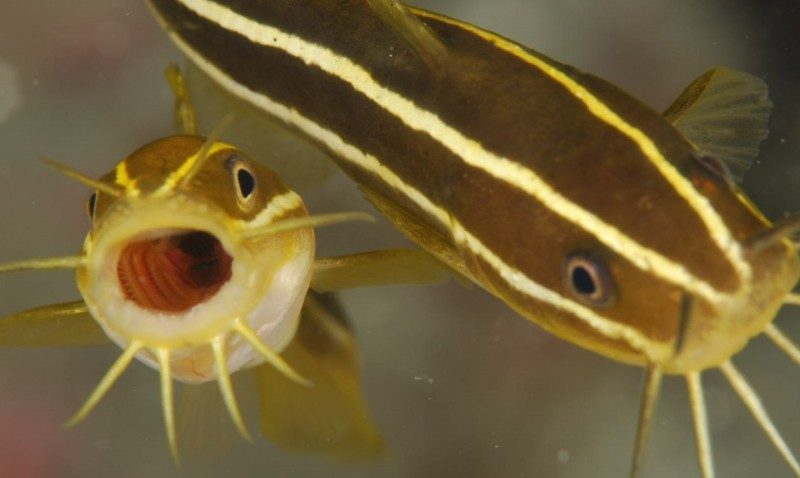gonzui: (200, 1, 791, 382), (48, 91, 334, 394)
